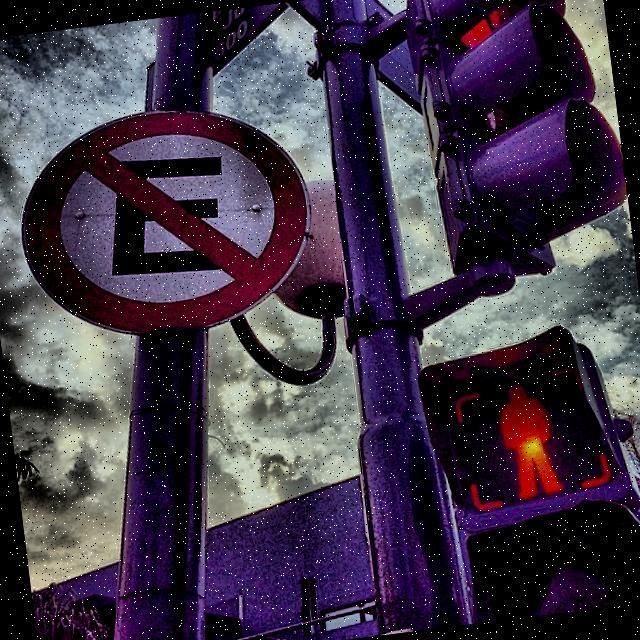red_light: (489, 374, 567, 506)
